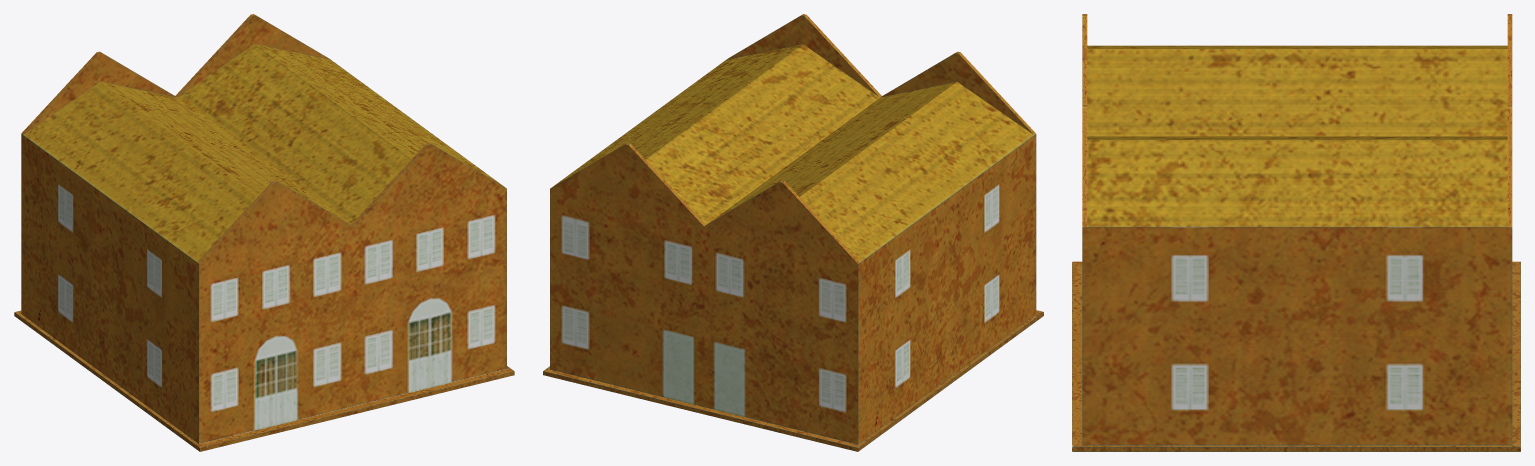
File: Semi_D_House_LOD_1.fbx
3 renders of one model, left to right at view 1: azimuth 30°, elevation 25°; view 2: azimuth 150°, elevation 25°; view 3: azimuth 270°, elevation 25°, orthographic. The views are drawn at different scales.
Visible parts, largest first — view 1: Cube; view 2: Cube; view 3: Cube.
Boxes of the visible parts, x1,y1,x2,y2 form: Cube: (14,14,514,451); Cube: (543,14,1043,451); Cube: (1072,14,1520,451).
Size of the model in its own units: 1429 by 1073 by 1461.
